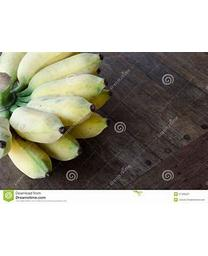banana: (0, 52, 116, 177)
